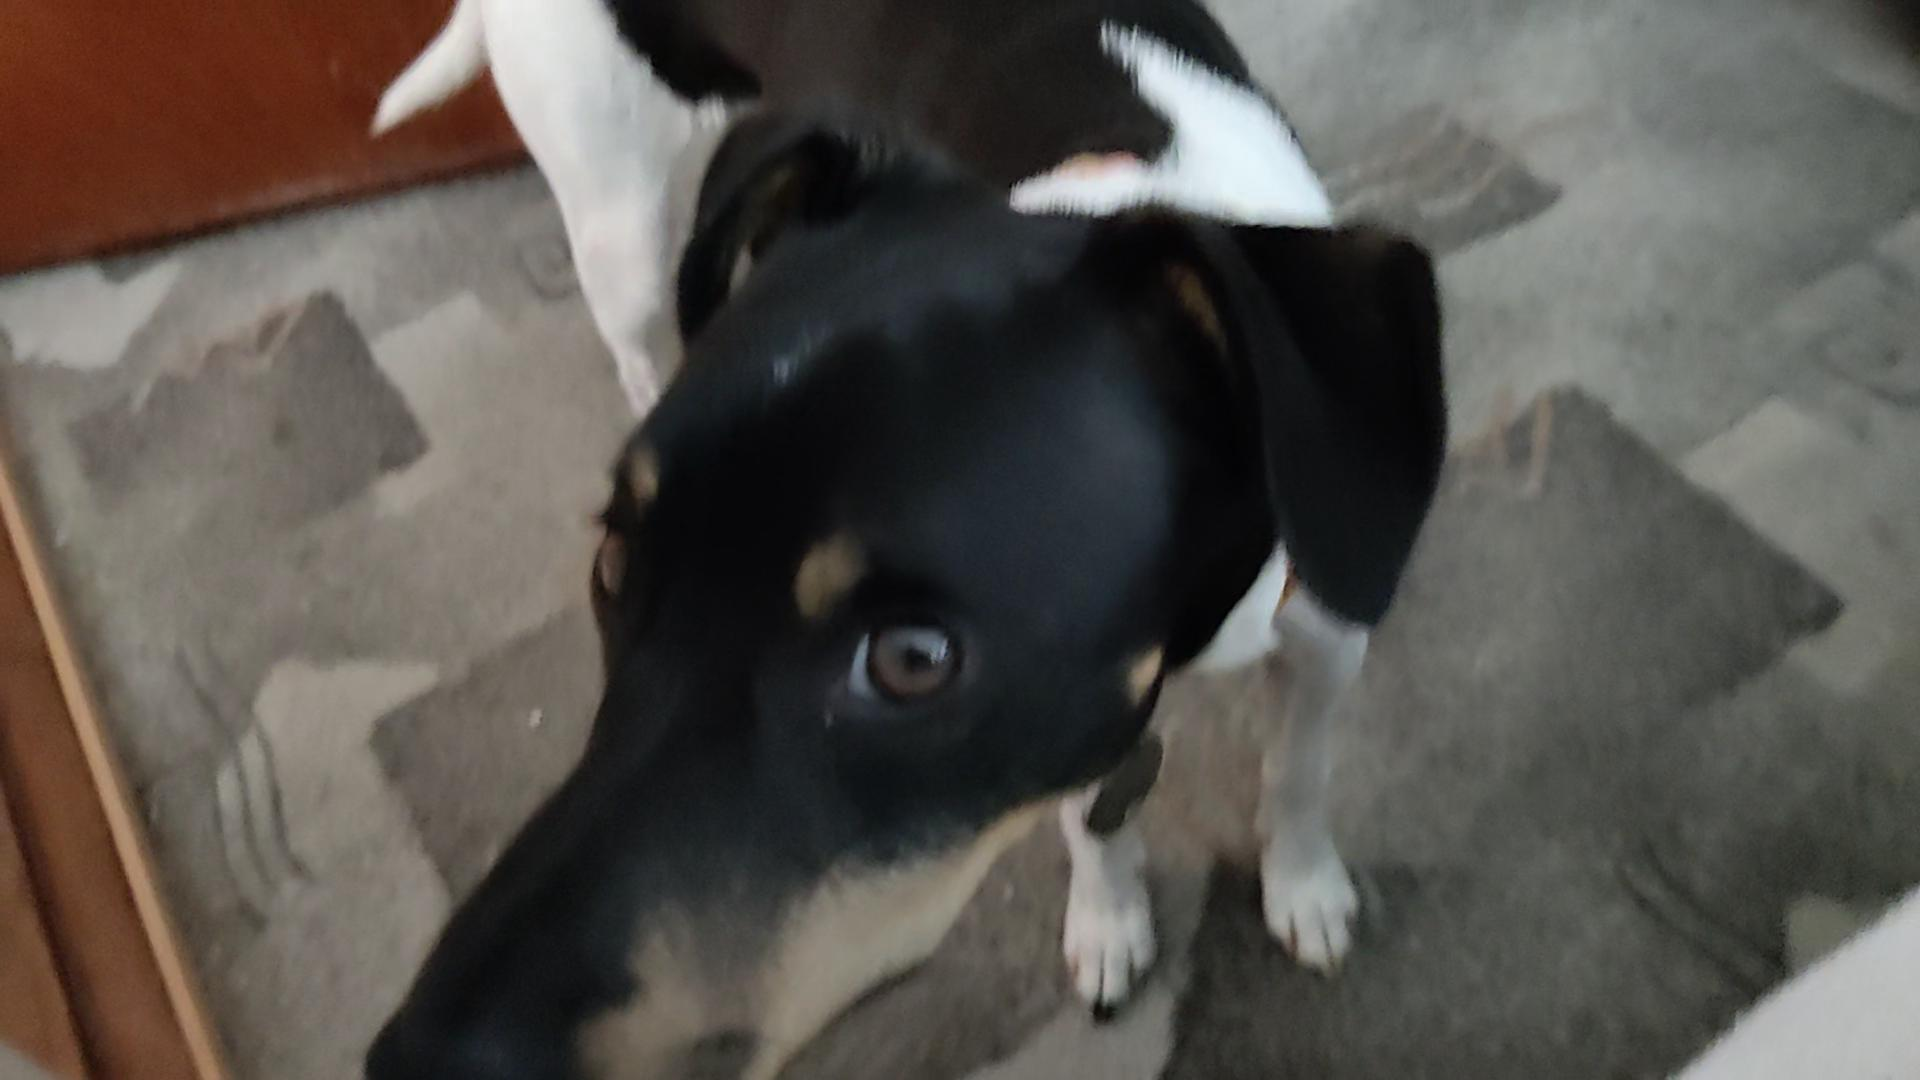Dog: (298, 0, 1498, 1079)
